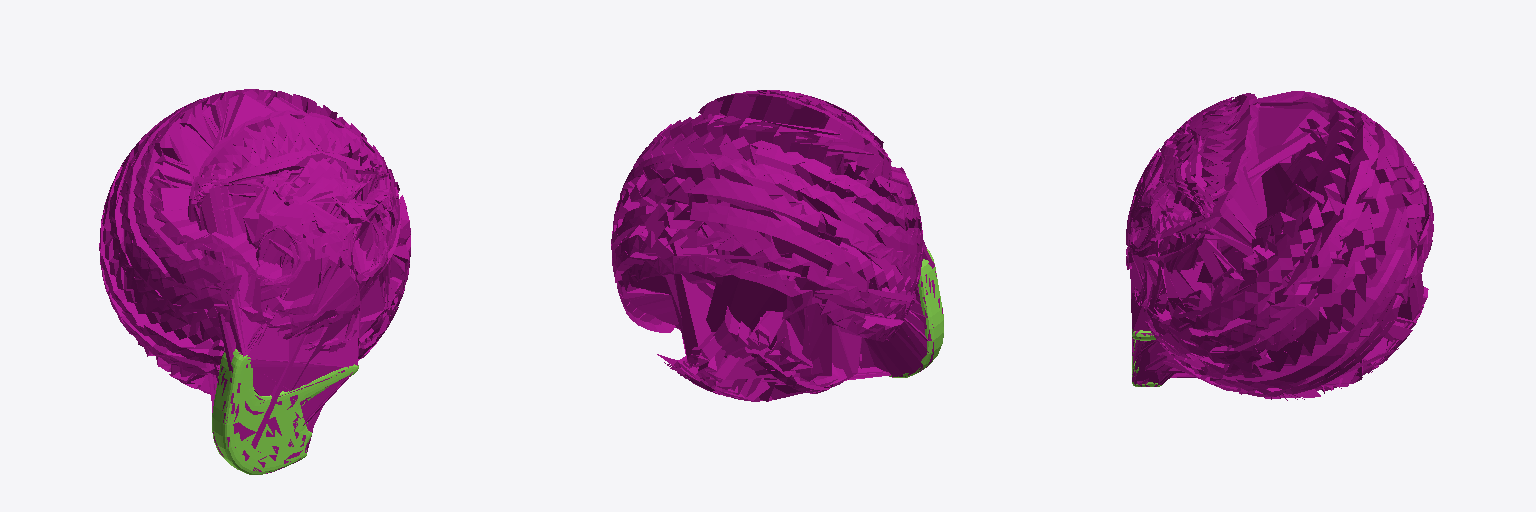
Rendered from thinking.obj.
3 views of the same model, side by side, from view 1: azimuth 30°, elevation 25°; view 2: azimuth 150°, elevation 25°; view 3: azimuth 270°, elevation 25° (orthographic).
Parts seen in each view (by area): view 1: Group41438, Group40187; view 2: Group41438, Group40187; view 3: Group41438.
Boxes of the visible parts, x1=… form: Group41438: x1=99, y1=89, x2=410, y2=473; Group40187: x1=212, y1=349, x2=358, y2=474; Group41438: x1=611, y1=90, x2=942, y2=401; Group40187: x1=889, y1=249, x2=943, y2=377; Group41438: x1=1126, y1=91, x2=1433, y2=400.
Size of the model in its own units: 18.99 by 20.17 by 18.8.